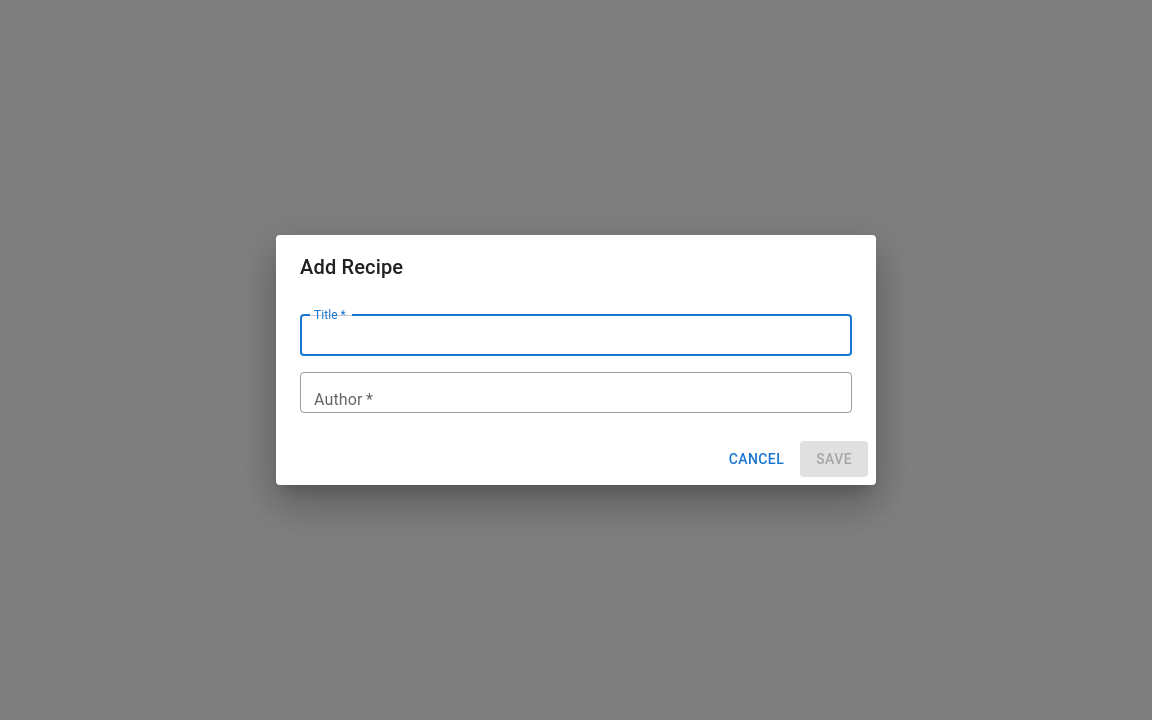
RecipeFormDialog › add mode › Save button is enabled when title has text
This screenshot has width=1152, height=720.
In the field labelled "Title *": [576, 335] box [300,315,852,356], type "Test"
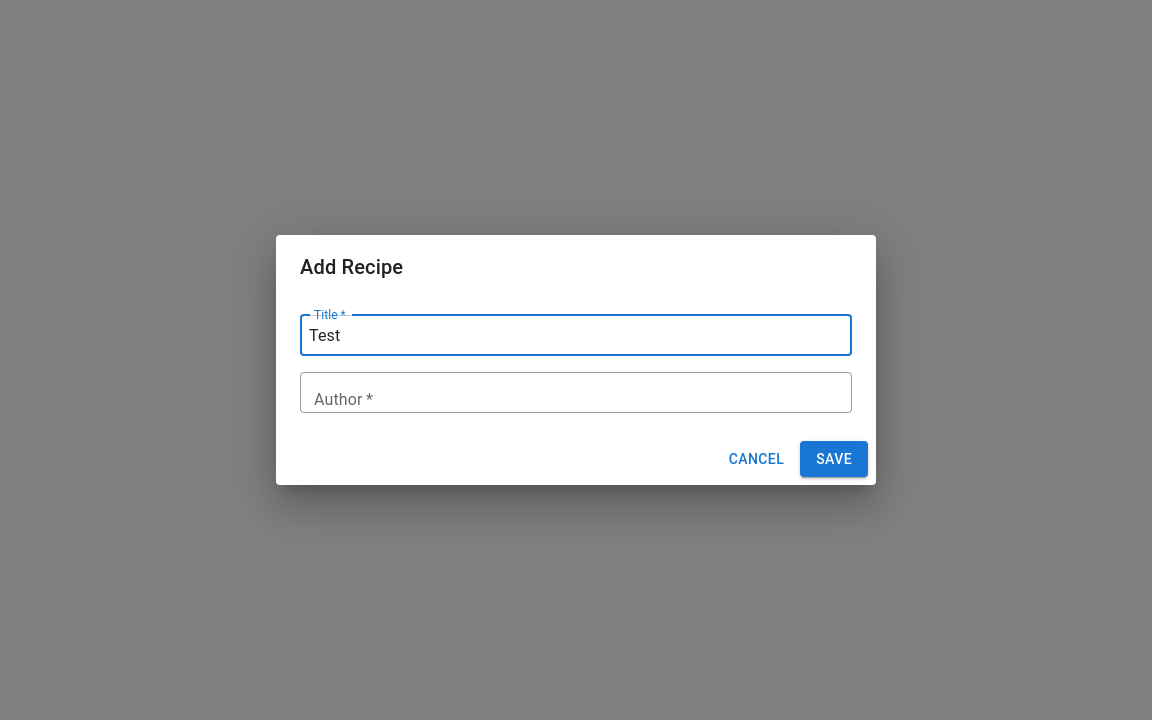
Expected: the button "Save" is enabled, [800,441,868,477]
